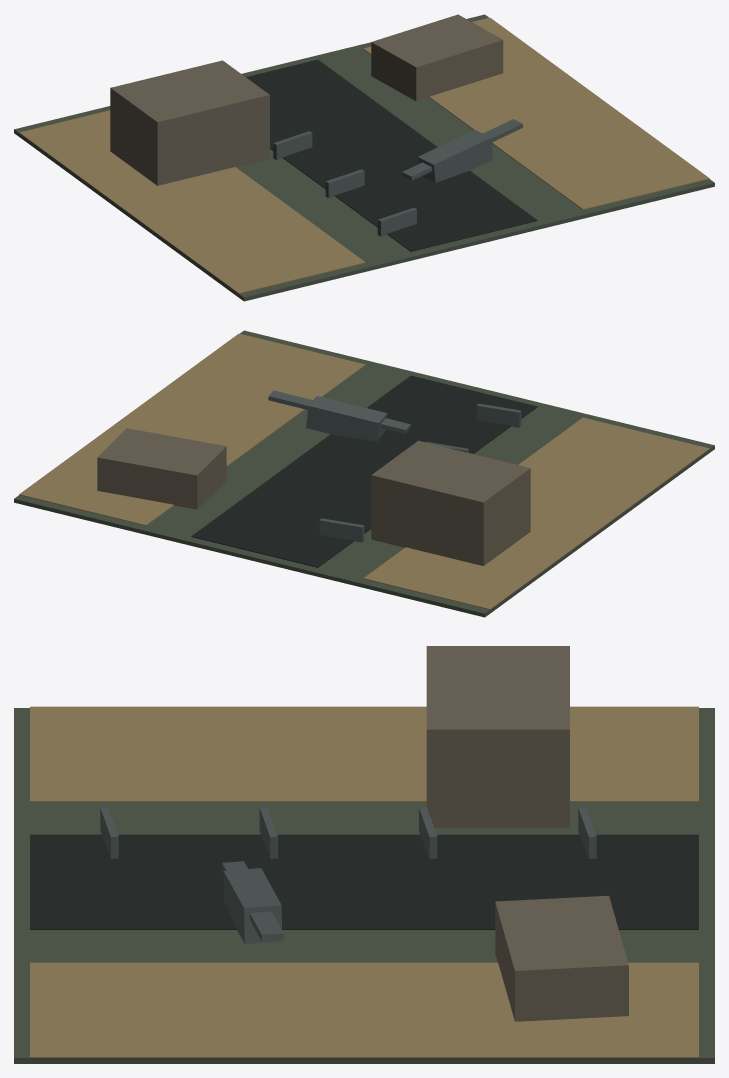
Rendered from crash_optimized.glb.
3 renders of one model, top to bottom at view 1: azimuth 30°, elevation 25°; view 2: azimuth 150°, elevation 25°; view 3: azimuth 270°, elevation 25°, orthographic. The views are drawn at different scales.
Parts seen in each view (by area): view 1: sand_lot (×2), road, ground, hotel, hotel_ruin, wrecked_plane_body, road_barrier (×3), plane_wing; view 2: sand_lot (×2), road, ground, hotel, hotel_ruin, wrecked_plane_body, road_barrier (×2), plane_wing; view 3: sand_lot (×2), road, ground, hotel, hotel_ruin, wrecked_plane_body, road_barrier (×4), plane_wing.
Boxes of the visible parts, bbox=[...] form: sand_lot (×2): bbox=[19, 17, 709, 293]; road: bbox=[246, 59, 537, 251]; ground: bbox=[14, 14, 714, 301]; hotel: bbox=[110, 60, 269, 185]; hotel_ruin: bbox=[371, 14, 503, 101]; wrecked_plane_body: bbox=[418, 129, 492, 182]; road_barrier (×3): bbox=[273, 131, 416, 236]; plane_wing: bbox=[402, 119, 522, 180]; sand_lot (×2): bbox=[19, 333, 709, 609]; road: bbox=[191, 375, 537, 567]; ground: bbox=[14, 330, 714, 617]; hotel: bbox=[371, 440, 530, 565]; hotel_ruin: bbox=[97, 428, 226, 509]; wrecked_plane_body: bbox=[306, 396, 387, 441]; road_barrier (×2): bbox=[319, 403, 521, 542]; plane_wing: bbox=[268, 390, 410, 433]; sand_lot (×2): bbox=[30, 706, 698, 1057]; road: bbox=[30, 834, 698, 929]; ground: bbox=[14, 708, 714, 1063]; hotel: bbox=[426, 646, 569, 827]; hotel_ruin: bbox=[495, 895, 628, 1021]; wrecked_plane_body: bbox=[223, 868, 282, 943]; road_barrier (×4): bbox=[100, 807, 596, 858]; plane_wing: bbox=[222, 861, 283, 941].
Size of the model in its own units: 2600 by 360 by 2200.
